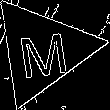M_N: (14, 22, 70, 79)
